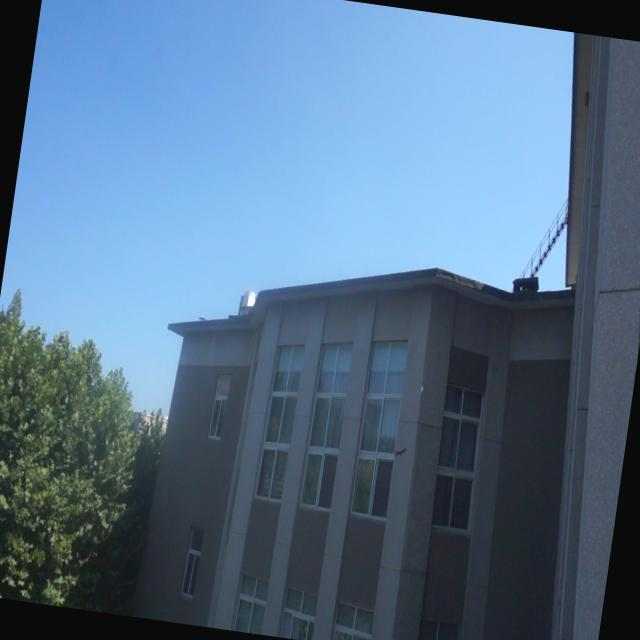drone: (393, 444, 411, 461)
